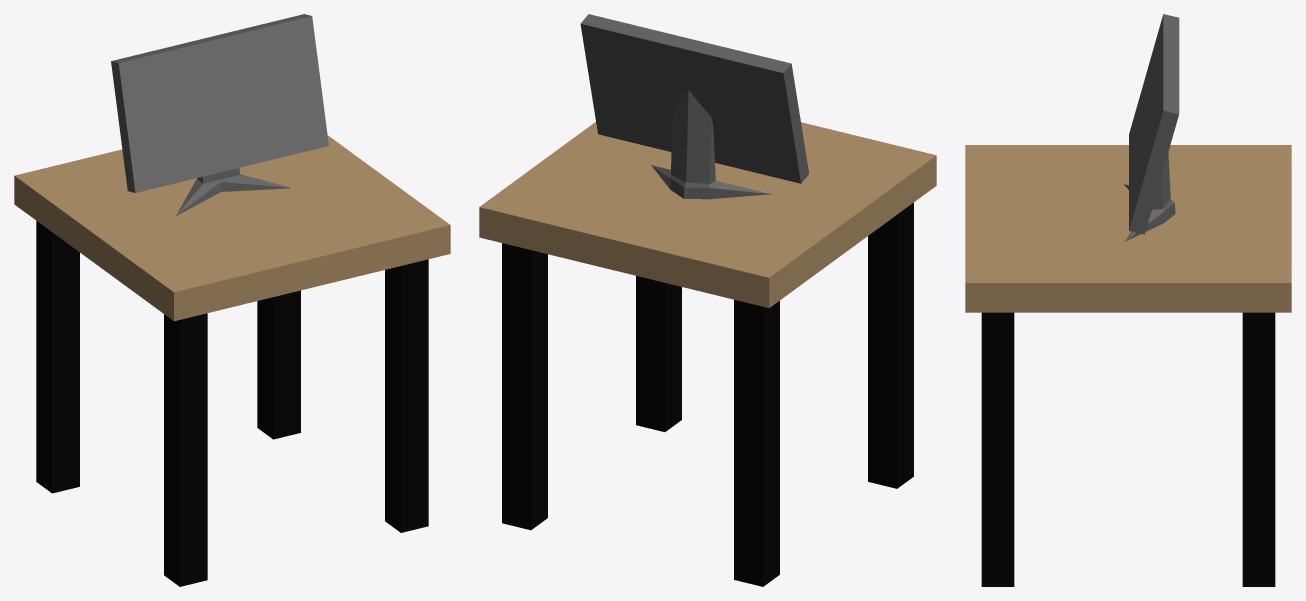
Rendered from computer.fbx.
The picture shows the model from 3 angles, left to right: view 1: azimuth 30°, elevation 25°; view 2: azimuth 150°, elevation 25°; view 3: azimuth 270°, elevation 25°; orthographic projection. The views are drawn at different scales.
Visible parts, largest first — view 1: Table, Screen.001, Leg, Leg.002, Leg.001, Leg.003, Stand; view 2: Table, Screen.001, Leg.001, Leg.003, Leg, Leg.002, Stand; view 3: Table, Leg.003, Leg.002, Screen.001, Stand.
Boxes of the visible parts, bbox=[...] form: Table: bbox=[14, 135, 450, 321]; Screen.001: bbox=[111, 14, 328, 192]; Leg: bbox=[164, 313, 207, 586]; Leg.002: bbox=[385, 259, 428, 532]; Leg.001: bbox=[36, 221, 79, 493]; Leg.003: bbox=[257, 290, 300, 439]; Stand: bbox=[176, 168, 290, 215]; Table: bbox=[479, 122, 936, 307]; Screen.001: bbox=[580, 14, 808, 183]; Leg.001: bbox=[734, 299, 779, 586]; Leg.003: bbox=[502, 243, 547, 530]; Leg: bbox=[868, 202, 913, 488]; Leg.002: bbox=[636, 276, 681, 431]; Stand: bbox=[651, 90, 771, 199]; Table: bbox=[965, 145, 1291, 312]; Leg.003: bbox=[1242, 312, 1275, 586]; Leg.002: bbox=[981, 312, 1014, 586]; Screen.001: bbox=[1129, 14, 1179, 234]; Stand: bbox=[1124, 153, 1175, 241].
Size of the model in its own units: 200 by 312 by 200.
